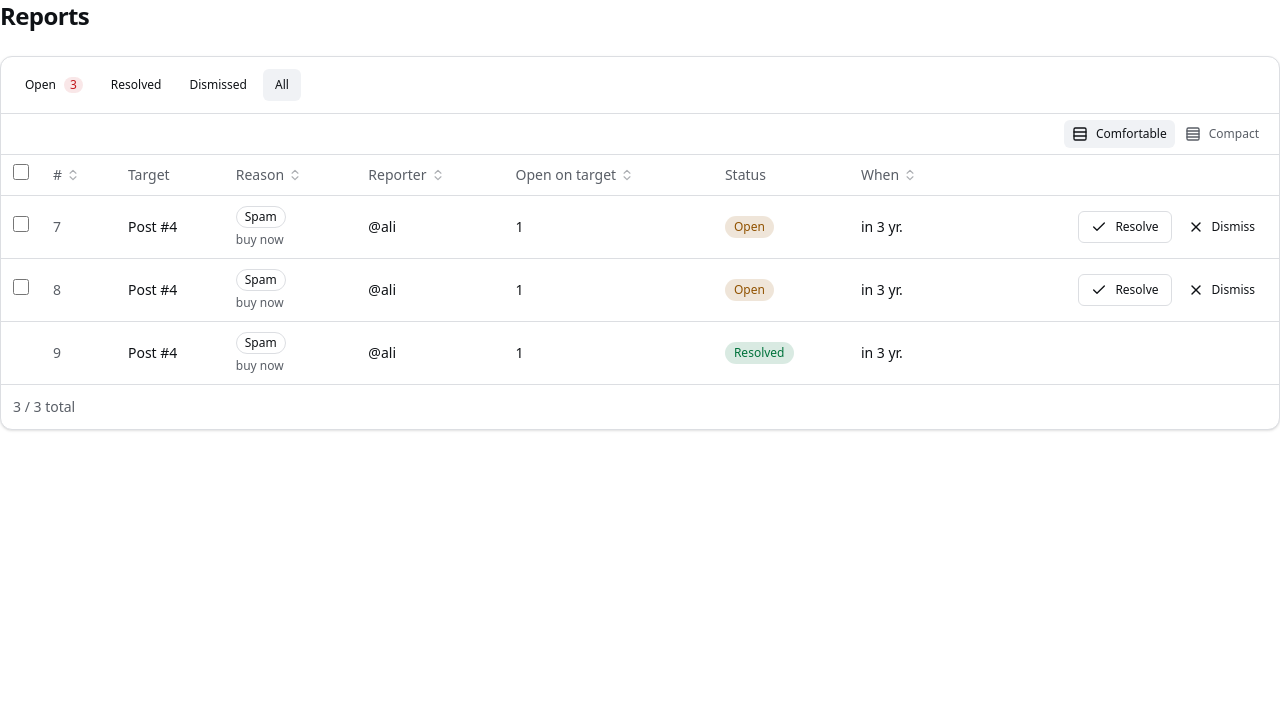
ReportsPage › bulk-resolves selected open reports with one confirm
The width and height of the screenshot is (1280, 720).
Expected: the checkbox named "Select row #7" is shown, [13,216,29,232]
Click the checkbox named "Select all rows" at (21, 172), box [13,164,29,180]
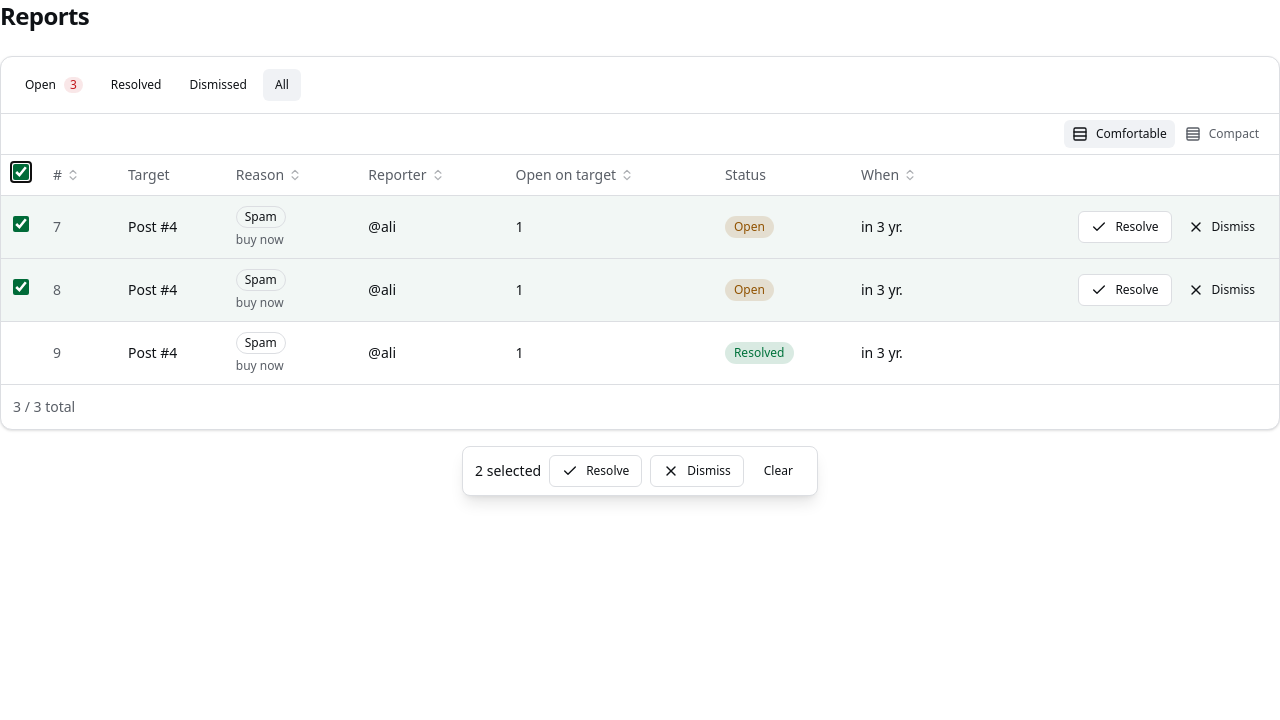
Click the button "Resolve" next to "2 selected" at (596, 470), box [549,454,642,486]
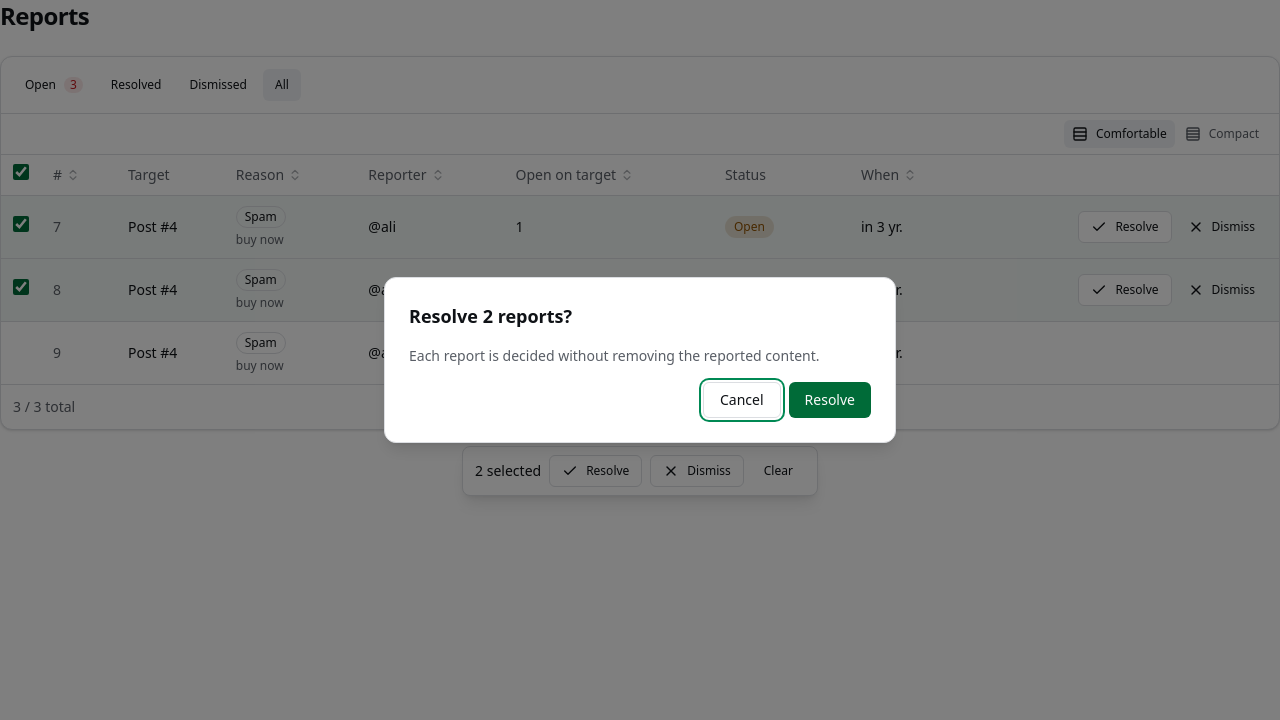
Now the dialog shows "Resolve 2 reports?", box [409,304,572,328]
Click the button "Resolve" at (830, 400), box [789,382,871,418]
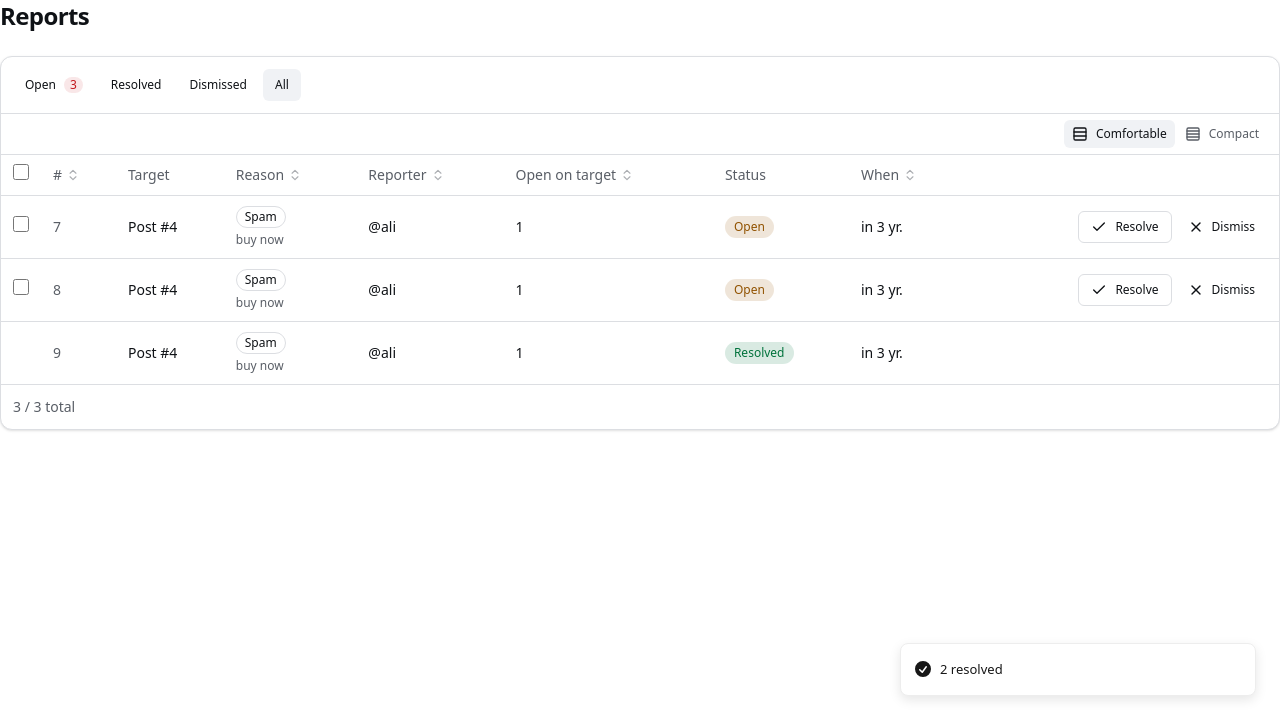
Now the text "2 resolved" is shown, box [940,660,1003,679]
